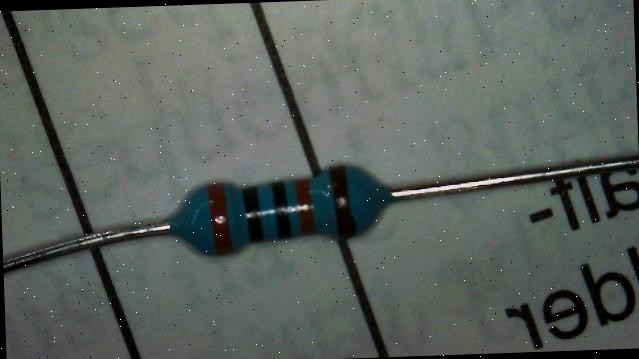black: (270, 181, 292, 240), (242, 186, 262, 242)
brown: (330, 165, 358, 239)
orange: (206, 182, 231, 256), (294, 178, 314, 235)
resistor: (164, 144, 394, 268)
